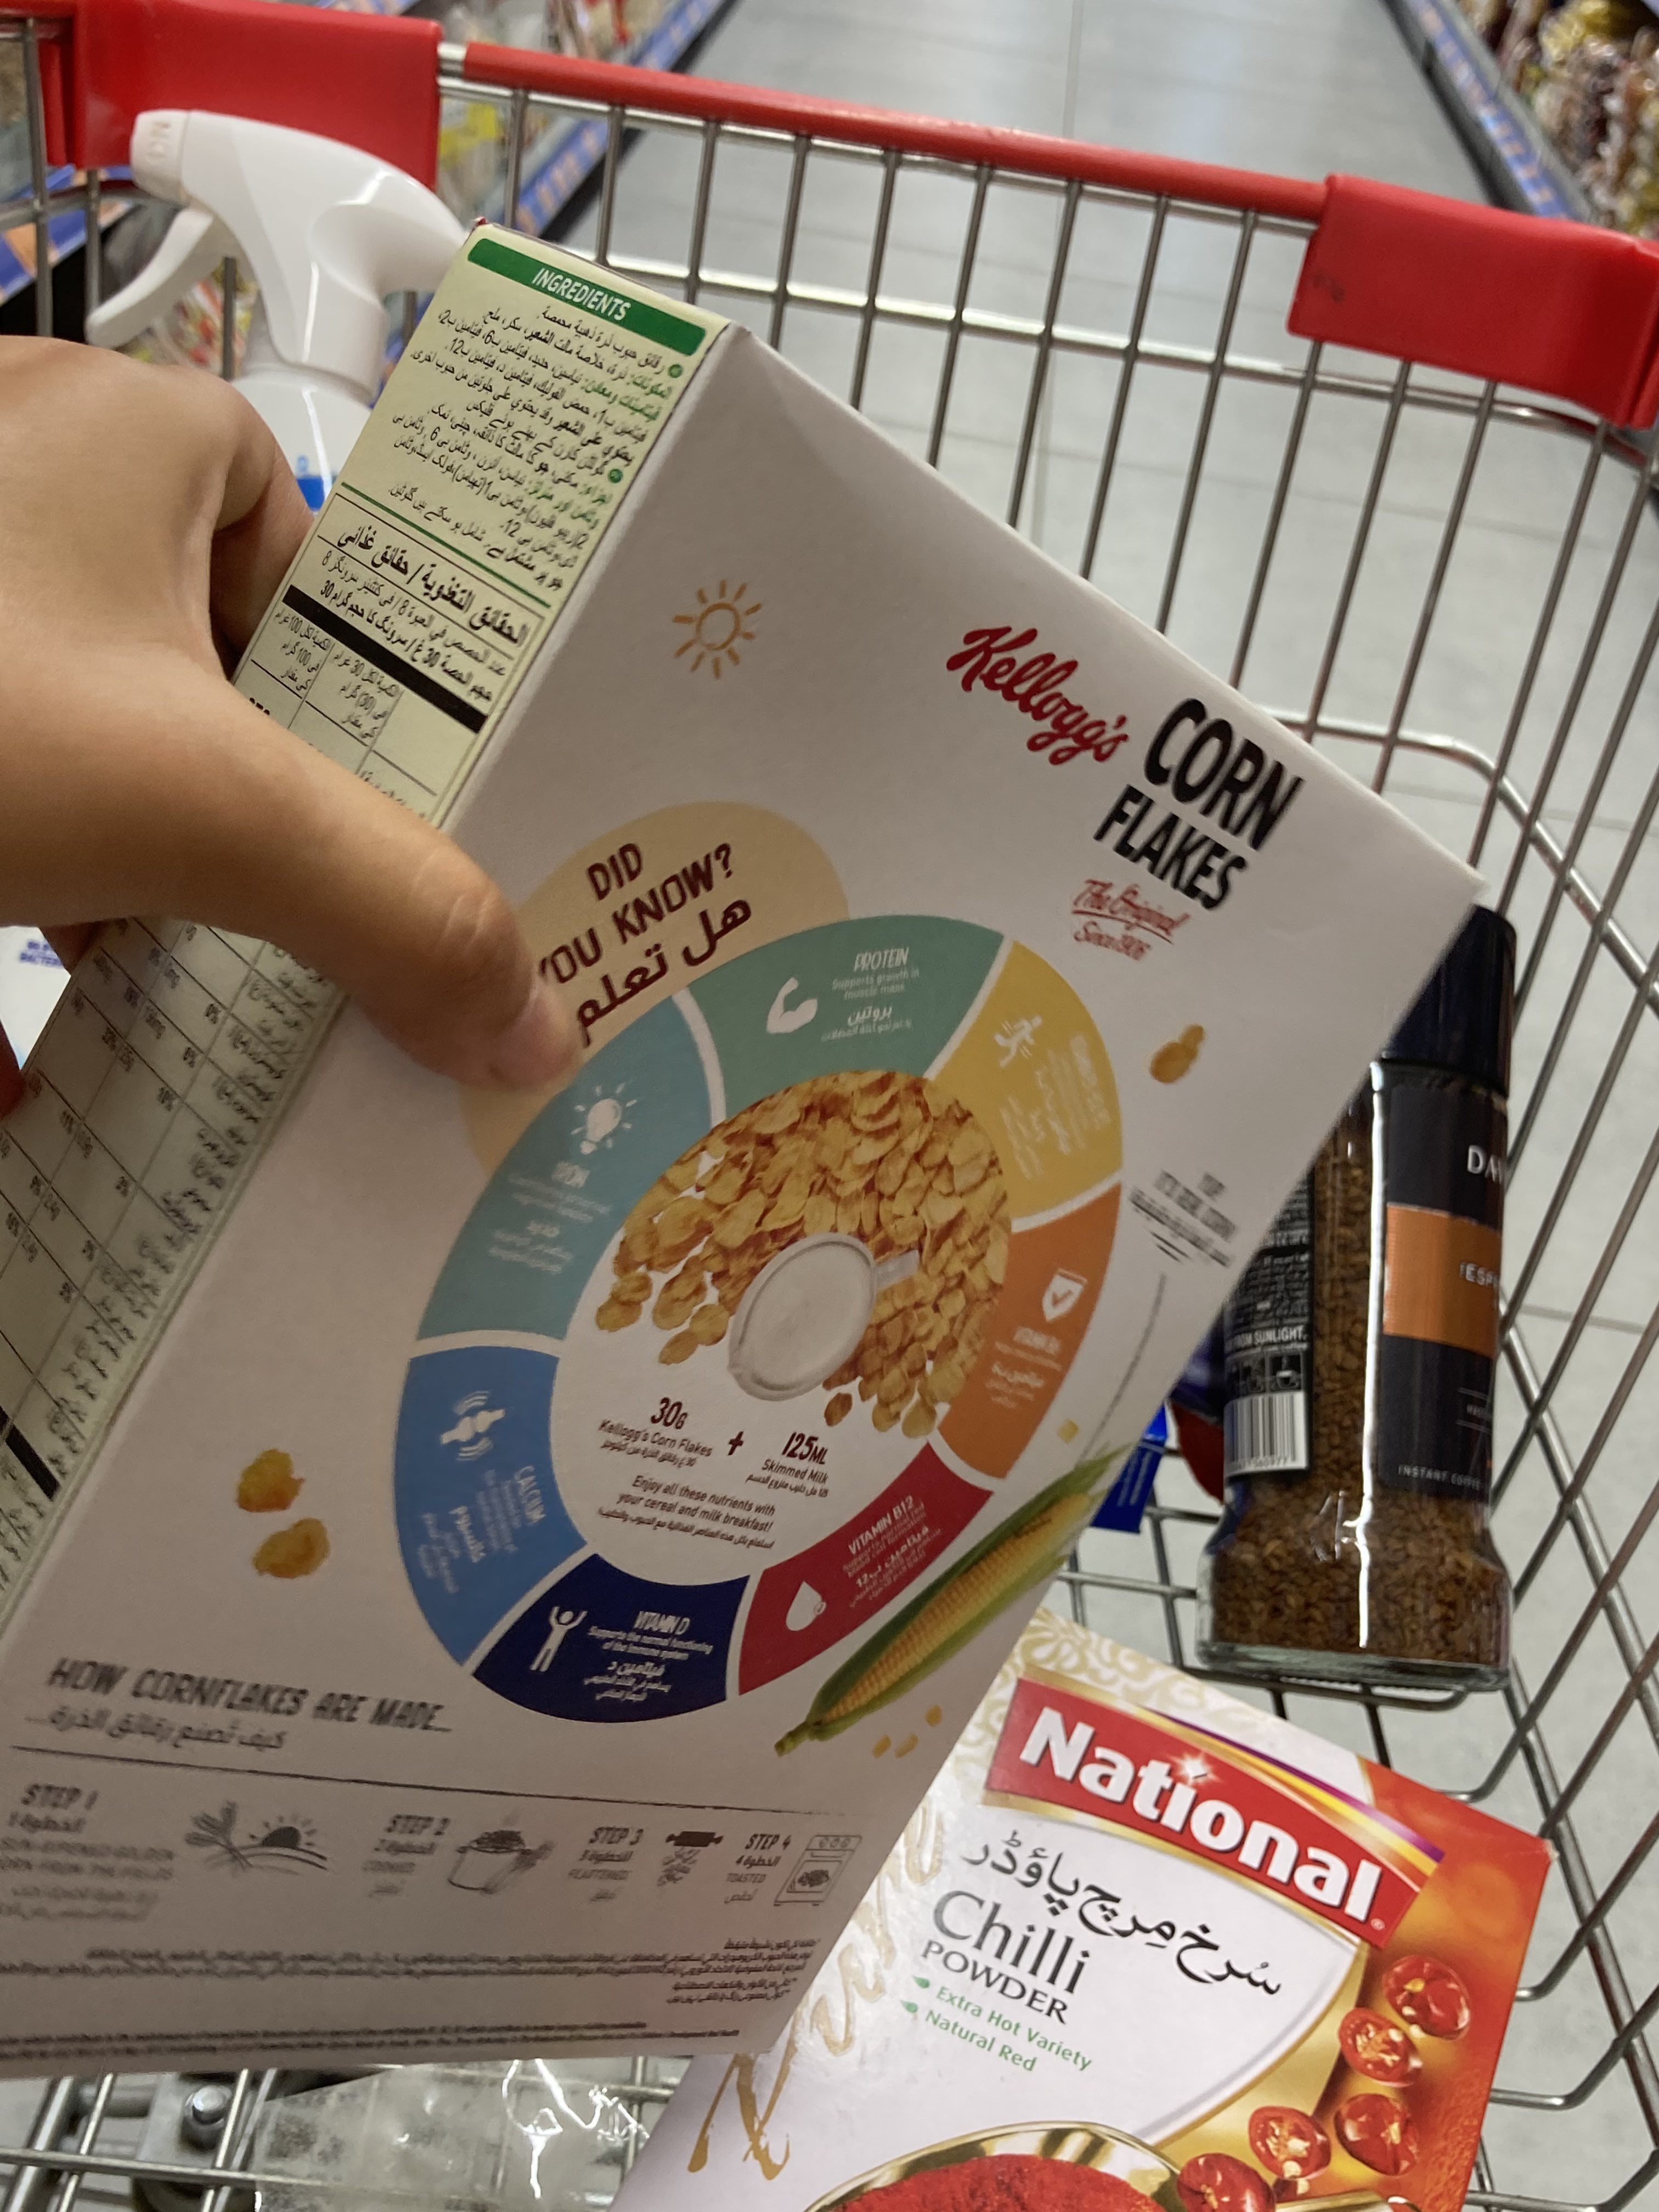Kellogg's Corn Flakes: (9, 225, 1490, 2080)
